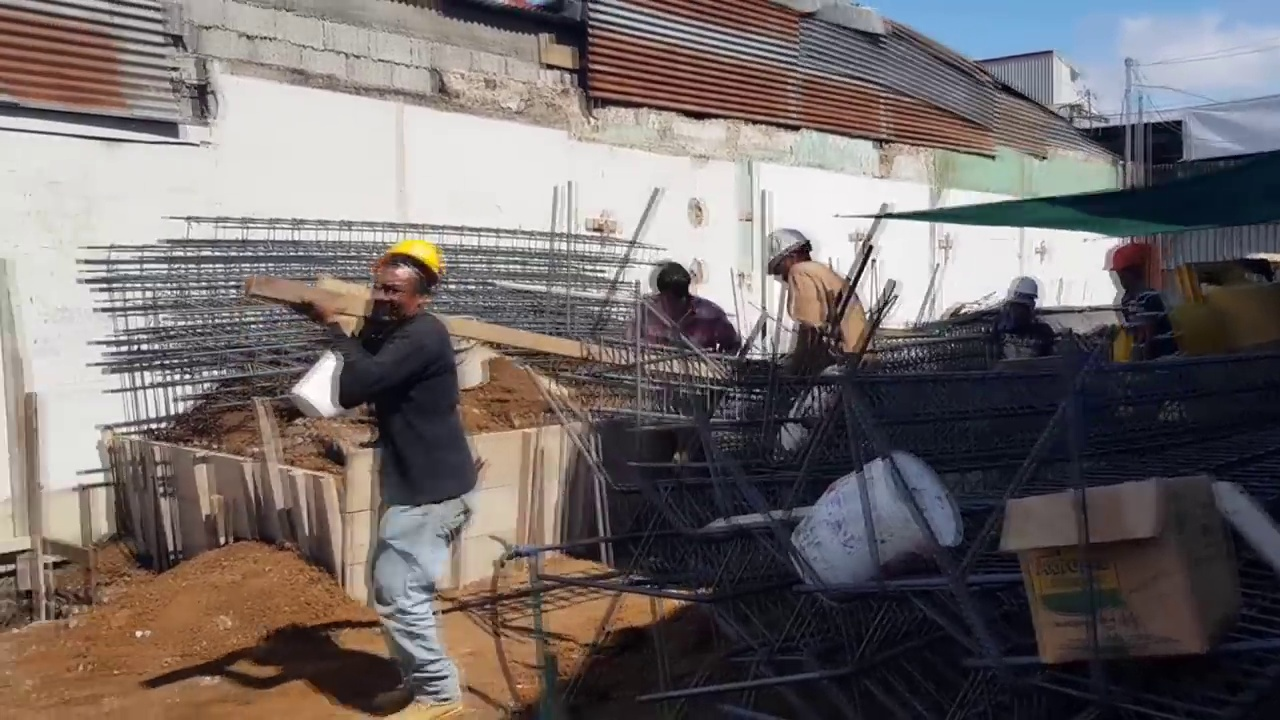helmet: (380, 236, 440, 279), (764, 229, 810, 273), (1109, 242, 1154, 272), (1010, 278, 1040, 298)
helmet-off: (656, 265, 692, 315)
helmet-on: (367, 236, 442, 323), (759, 228, 814, 283), (1110, 242, 1155, 294), (1009, 278, 1045, 309)
person: (290, 234, 466, 715), (626, 265, 726, 473), (758, 225, 864, 401), (1108, 239, 1174, 378), (998, 275, 1051, 362)
